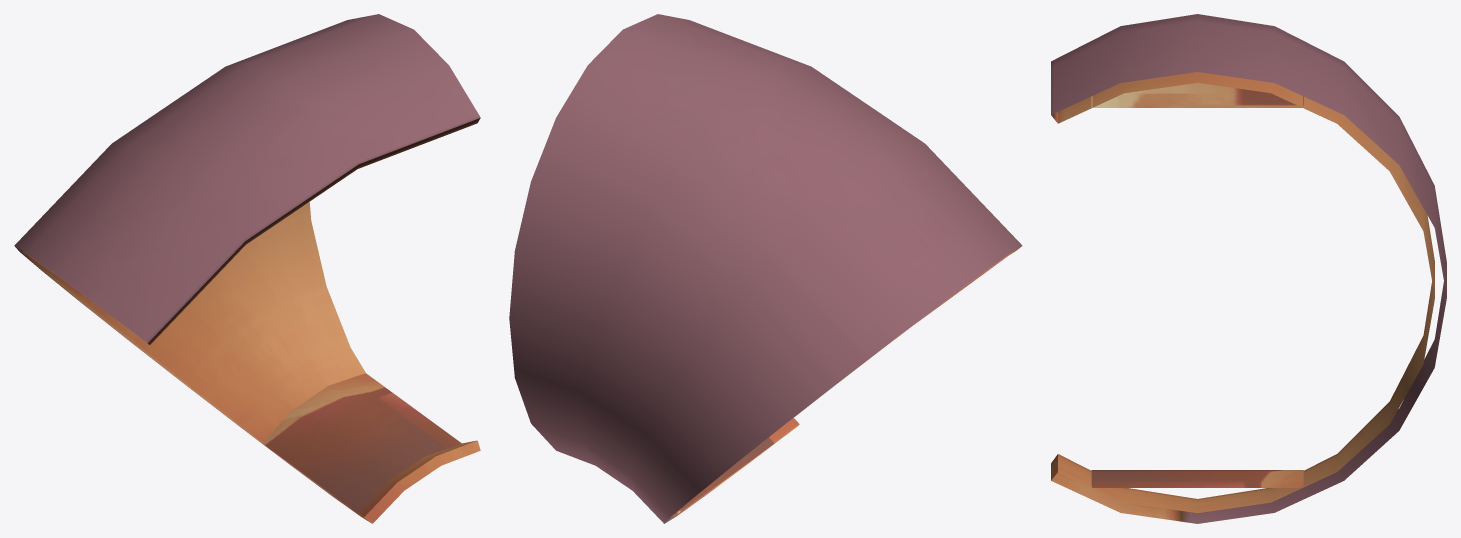
Rendered from openPipe_45corner 1.fbx.
3 views of the same model, side by side, from view 1: azimuth 30°, elevation 25°; view 2: azimuth 150°, elevation 25°; view 3: azimuth 270°, elevation 25° (orthographic). The views are drawn at different scales.
Parts seen in each view (by area): view 1: openPipe_45corner, openPipe_45corner_colFloor01; view 2: openPipe_45corner, openPipe_45corner_colFloor01; view 3: openPipe_45corner, openPipe_45corner_colFloor01, openPipe_45corner_colFloor02.
Part boxes in pixels (box(x1,y1,x2,y2)): openPipe_45corner: box(14, 14, 480, 523); openPipe_45corner_colFloor01: box(262, 373, 461, 513); openPipe_45corner: box(509, 14, 1022, 523); openPipe_45corner_colFloor01: box(677, 437, 774, 513); openPipe_45corner: box(1051, 14, 1446, 523); openPipe_45corner_colFloor01: box(1091, 470, 1303, 487); openPipe_45corner_colFloor02: box(1091, 82, 1303, 107).
Size of the model in its own units: 2.69 by 3.19 by 2.33.
1 material, 1 textured.
